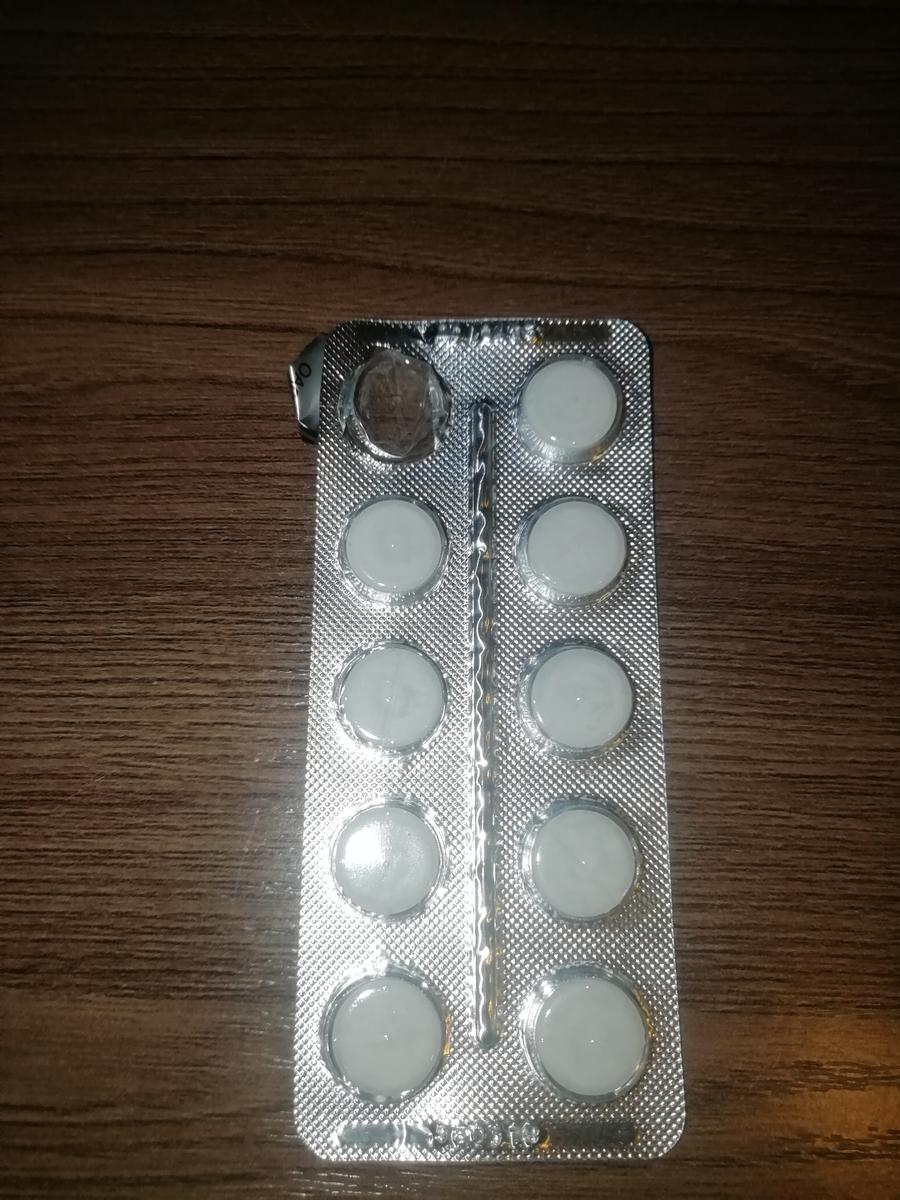tablet: (325, 974, 443, 1101), (533, 971, 651, 1098), (522, 806, 634, 927), (335, 800, 447, 921), (517, 357, 628, 466), (509, 494, 620, 603), (339, 495, 450, 604), (337, 640, 448, 749), (524, 644, 635, 753)
